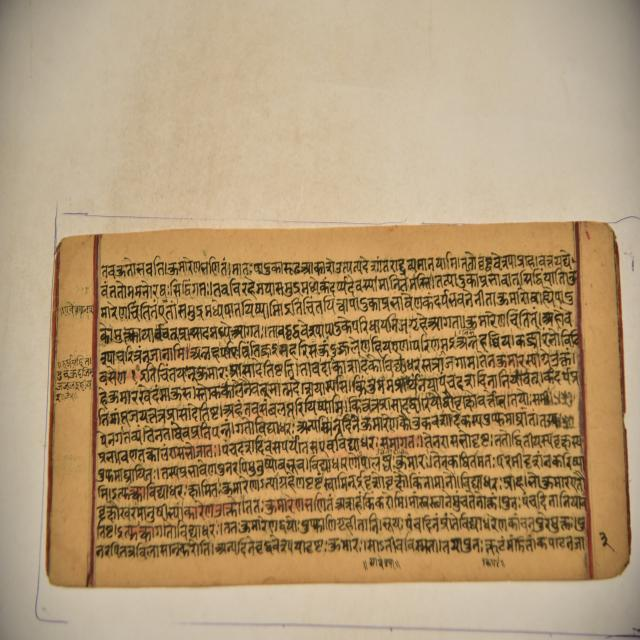text_paragraph: (35, 221, 630, 584)
